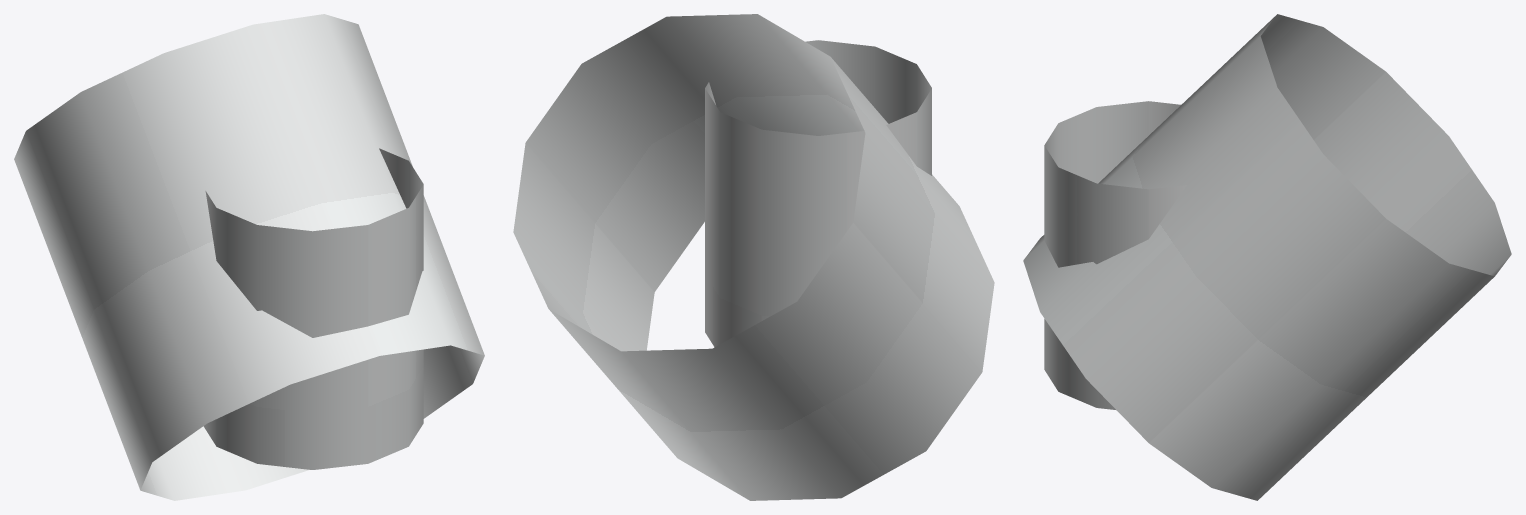
File: luminairearm_truss8ftdouble_c3.obj
The picture shows the model from 3 angles, left to right: view 1: azimuth 30°, elevation 25°; view 2: azimuth 150°, elevation 25°; view 3: azimuth 270°, elevation 25°; orthographic projection. The views are drawn at different scales.
Visible parts, largest first — view 1: luminairearm_truss8ftdouble_c3; view 2: luminairearm_truss8ftdouble_c3; view 3: luminairearm_truss8ftdouble_c3.
Part boxes in pixels (x1,y1,x2,y2): luminairearm_truss8ftdouble_c3: [14, 14, 484, 500]; luminairearm_truss8ftdouble_c3: [513, 14, 994, 500]; luminairearm_truss8ftdouble_c3: [1023, 14, 1511, 500].
Size of the model in its own units: 0.1562 by 0.2194 by 0.2194.
